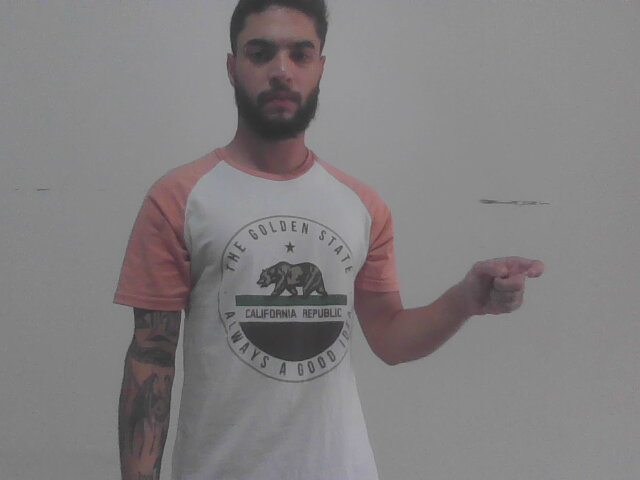x: (456, 239, 563, 336)
